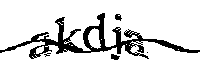a: (125, 27, 150, 59), (27, 30, 52, 60)
d: (84, 11, 108, 54)
j: (111, 12, 124, 65)
k: (55, 17, 84, 56)
